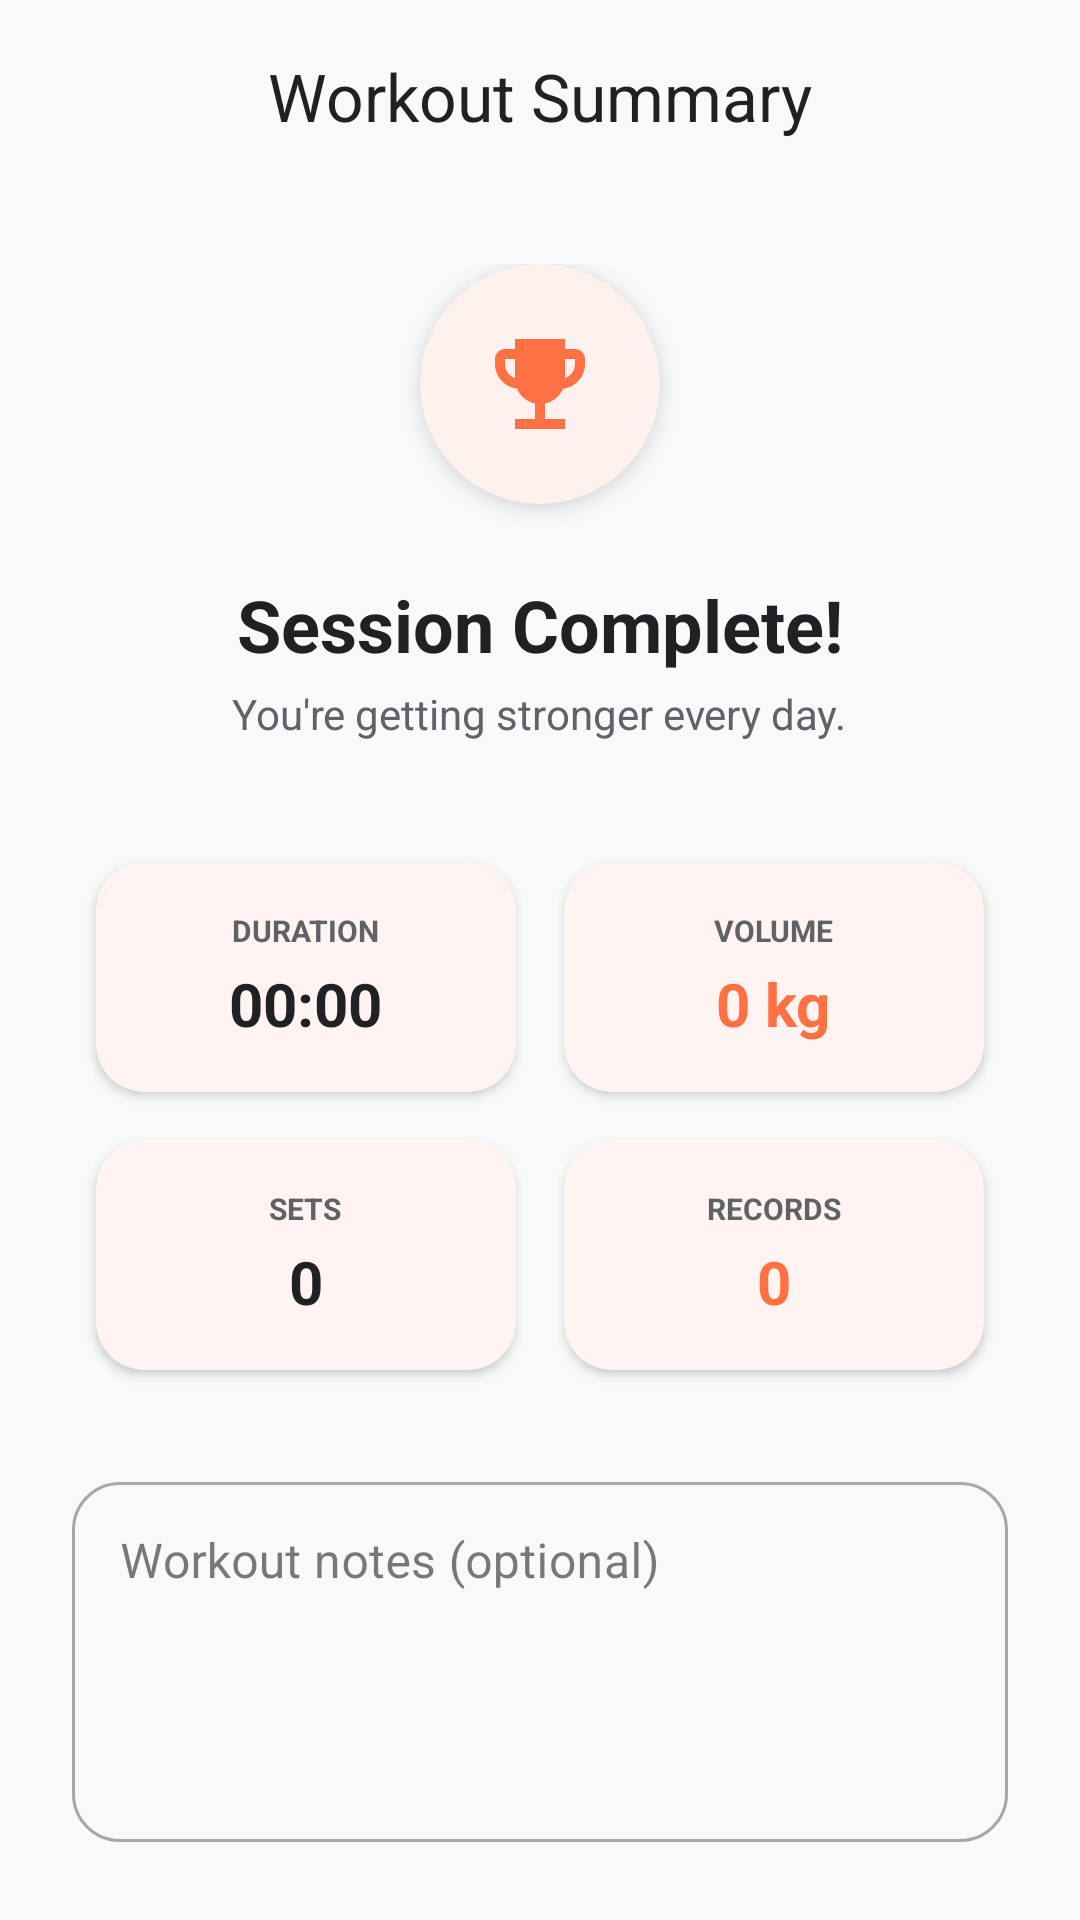

Point at icon controls on the screen. Image size 1080px×1920px, points as point (x, y).
trophy: point (540, 384)
